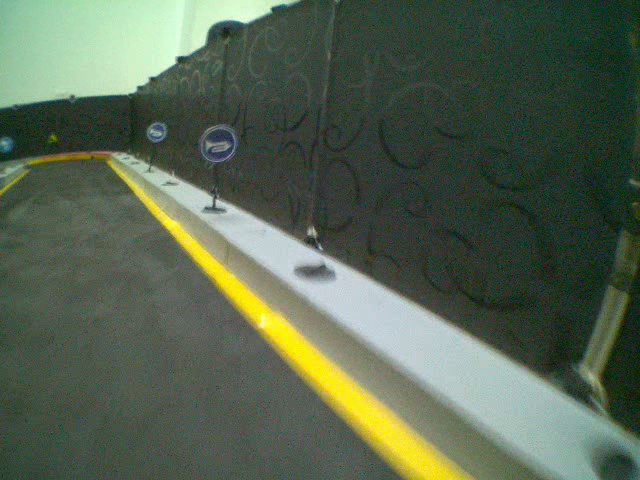horn: (199, 123, 239, 165), (146, 120, 168, 142)
